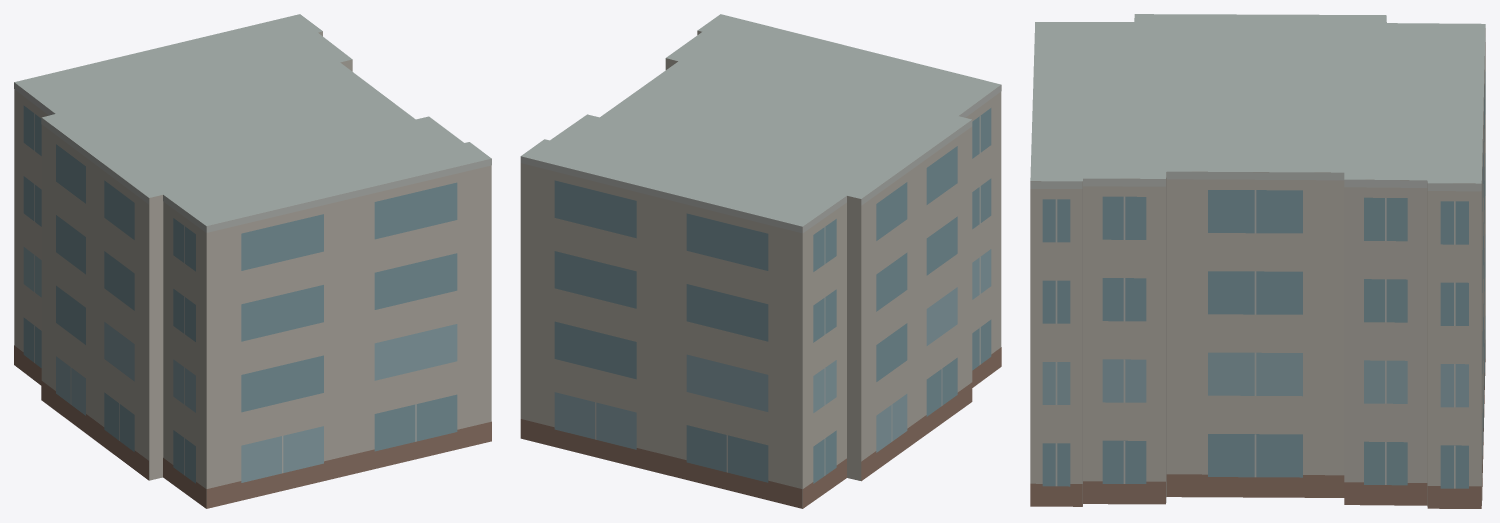
File: survey-upis-32748784.glb
The picture shows the model from 3 angles, left to right: view 1: azimuth 30°, elevation 25°; view 2: azimuth 150°, elevation 25°; view 3: azimuth 270°, elevation 25°; orthographic projection. The views are drawn at different scales.
Parts seen in each view (by area): view 1: survey-upis-32748784.tmp; view 2: survey-upis-32748784.tmp; view 3: survey-upis-32748784.tmp.
Part boxes in pixels (x1,y1,x2,y2): survey-upis-32748784.tmp: (14,14,491,508); survey-upis-32748784.tmp: (520,14,1001,508); survey-upis-32748784.tmp: (1030,14,1485,508).
Bounding box in the file's own units: 11.4 × 10.2 × 12.94.
